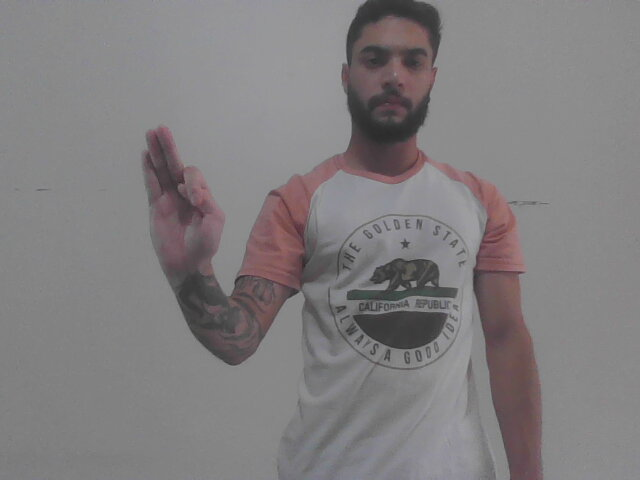t: (132, 120, 227, 267)
